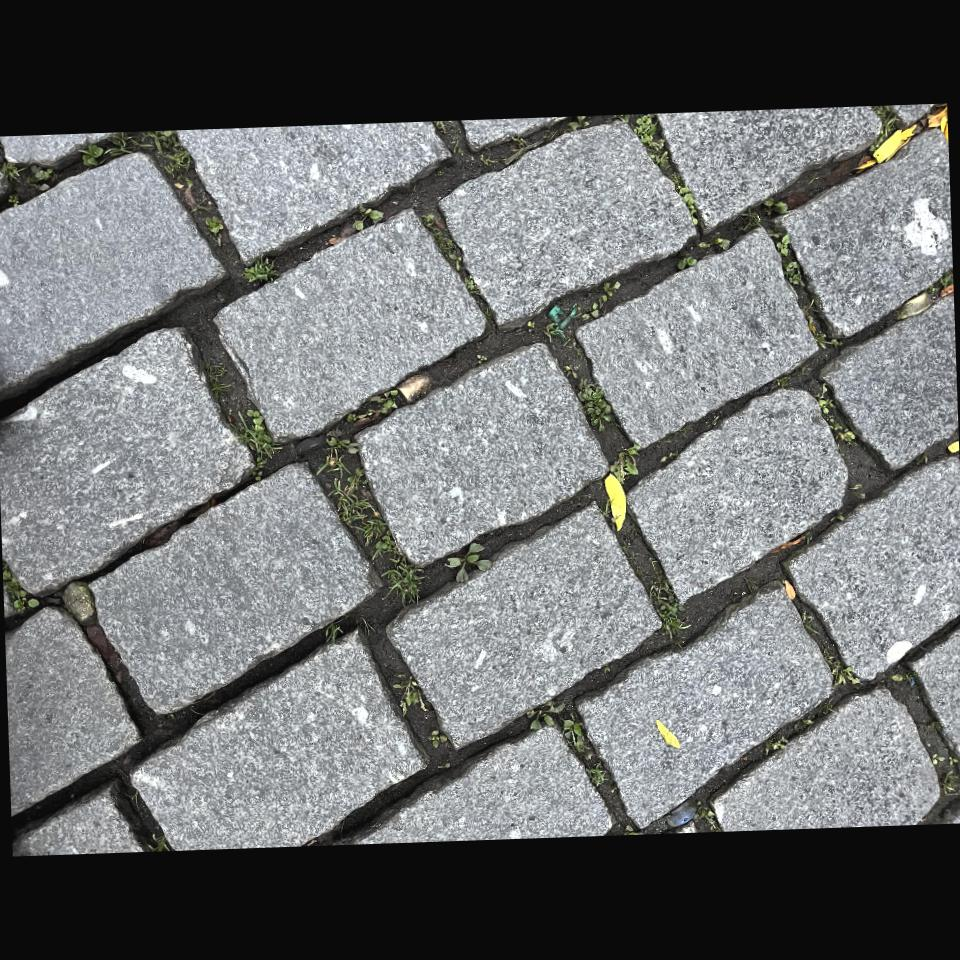weed: (331, 468, 422, 604), (528, 700, 610, 787), (99, 130, 191, 177), (233, 410, 281, 480), (650, 561, 689, 638), (768, 228, 807, 301), (800, 298, 842, 349), (633, 114, 668, 170), (448, 543, 492, 582), (578, 379, 611, 430), (244, 256, 278, 283), (80, 139, 95, 156), (674, 176, 683, 192)
